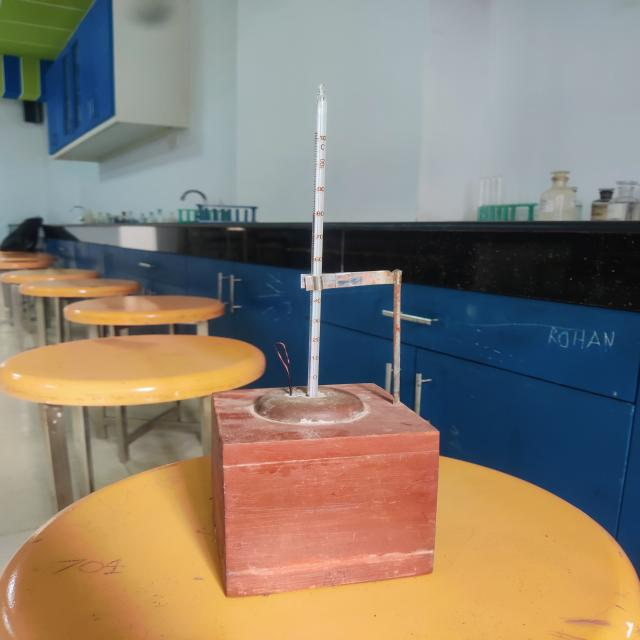Calorimeter: (181, 67, 465, 608)
